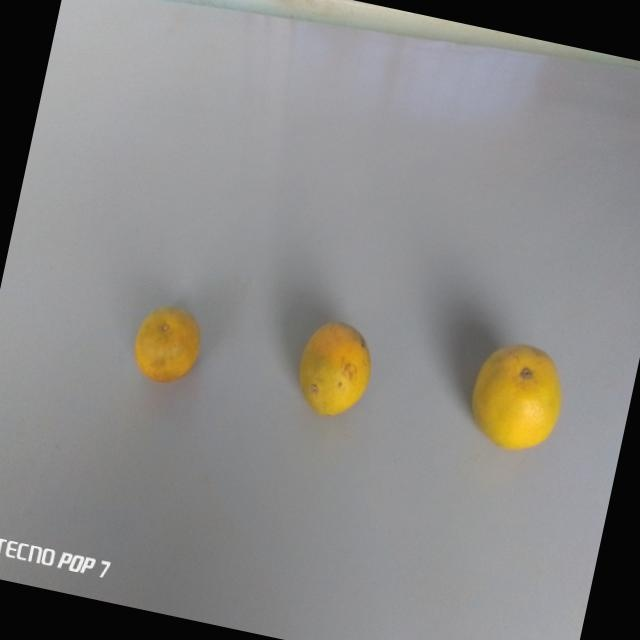agrume: (456, 326, 576, 466), (280, 307, 386, 437), (119, 294, 213, 395)
